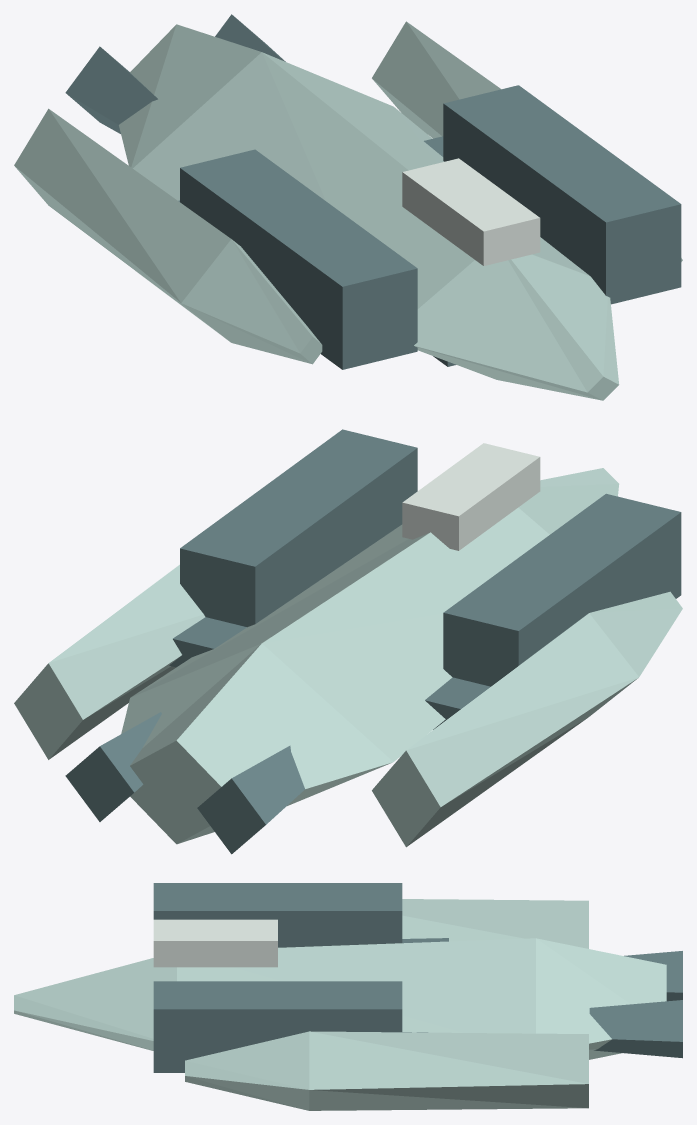
3 renders of one model, top to bottom at view 1: azimuth 30°, elevation 25°; view 2: azimuth 150°, elevation 25°; view 3: azimuth 270°, elevation 25°, orthographic. The views are drawn at different scales.
Size of the model in its own units: 2.63 by 1.01 by 4.35.
